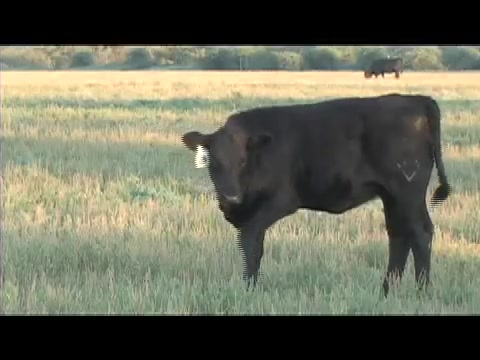cow: (184, 94, 454, 299), (364, 56, 406, 80)
